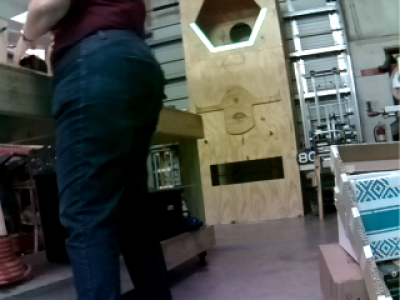target: (188, 7, 268, 54)
